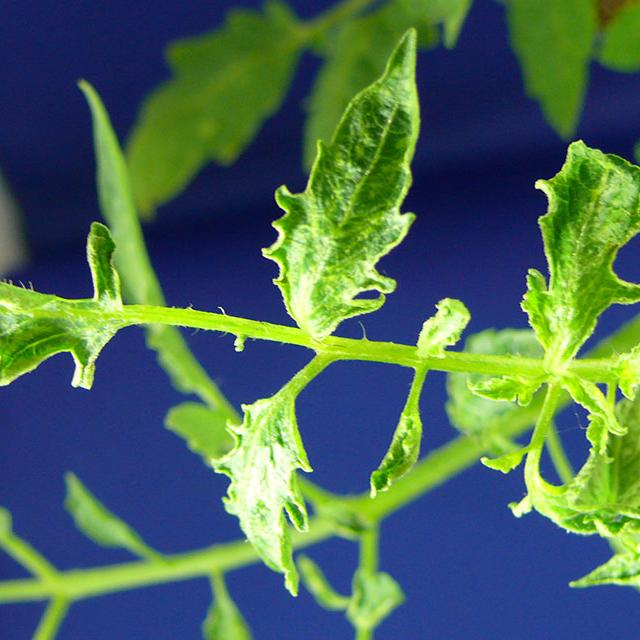Tomato leaf mosaic virus: (245, 19, 453, 341), (486, 122, 640, 365), (203, 386, 324, 606), (0, 231, 152, 388)
